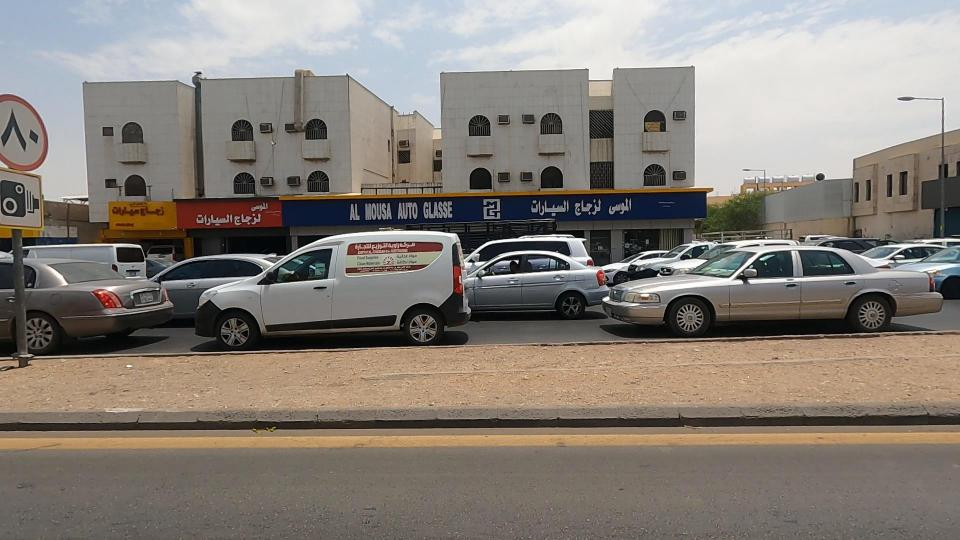CLUTTER_SIDEWALK: (406, 316, 959, 430), (174, 329, 548, 432)
